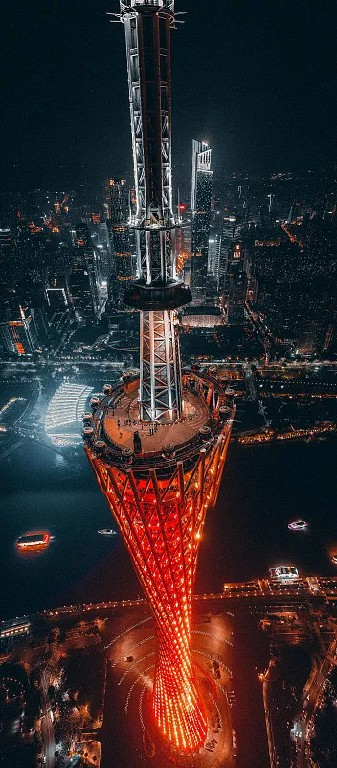Canton: (80, 11, 233, 757)
